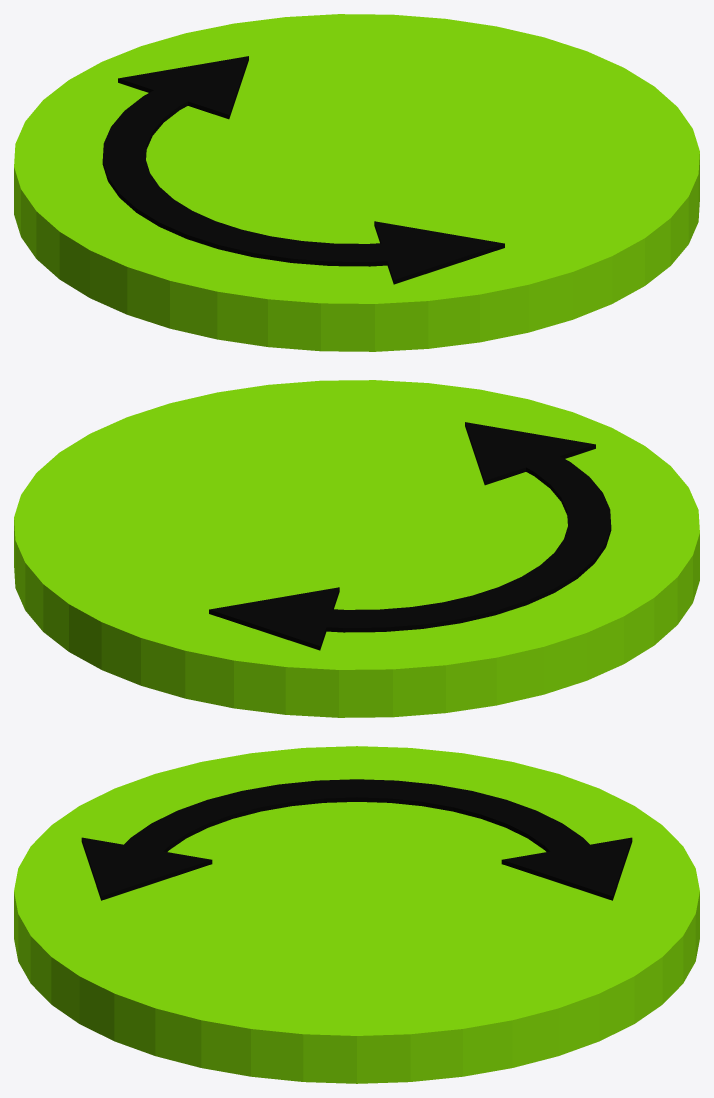
The model's file is rotation.fbx.
3 views of the same model, one above another, from view 1: azimuth 30°, elevation 25°; view 2: azimuth 150°, elevation 25°; view 3: azimuth 270°, elevation 25° (orthographic).
Visible parts, largest first — view 1: Cylinder.001; view 2: Cylinder.001; view 3: Cylinder.001.
Boxes of the visible parts, x1,y1,x2,y2 form: Cylinder.001: (14, 14, 699, 351); Cylinder.001: (14, 380, 699, 717); Cylinder.001: (14, 746, 699, 1083).
Size of the model in its own units: 2.7 by 2.7 by 0.2455.
